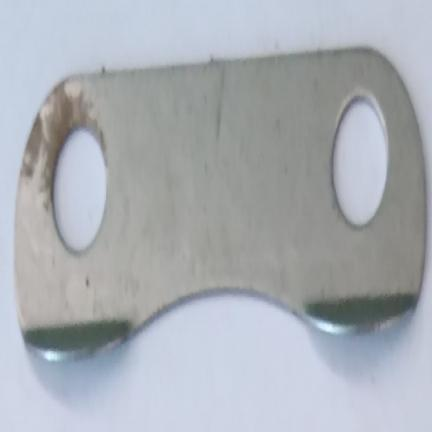besi_tidak_karat: (15, 48, 427, 360)
